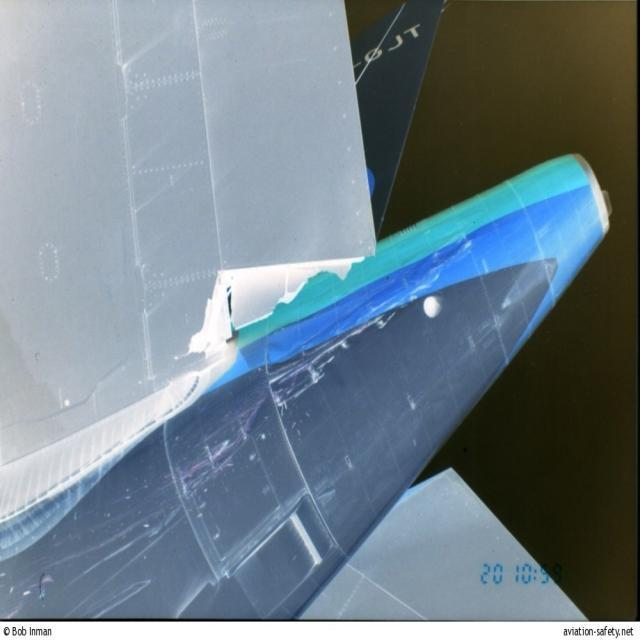crack: (167, 254, 365, 372)
